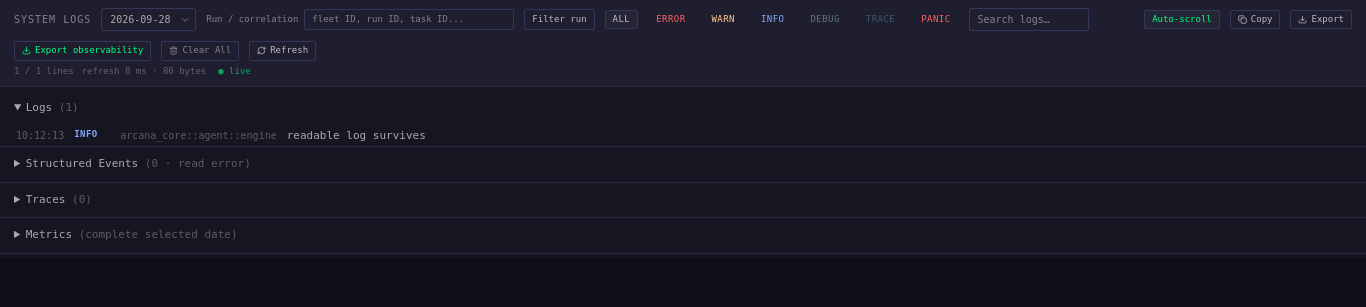
Test: Logs tab › keeps readable logs visible when the structured telemetry reader fails
Expected: the text "readable log survives" is shown, [287, 128, 426, 142]
Click the heading "Structured Events (0 · read error)" at [138, 164], box [26, 157, 251, 170]
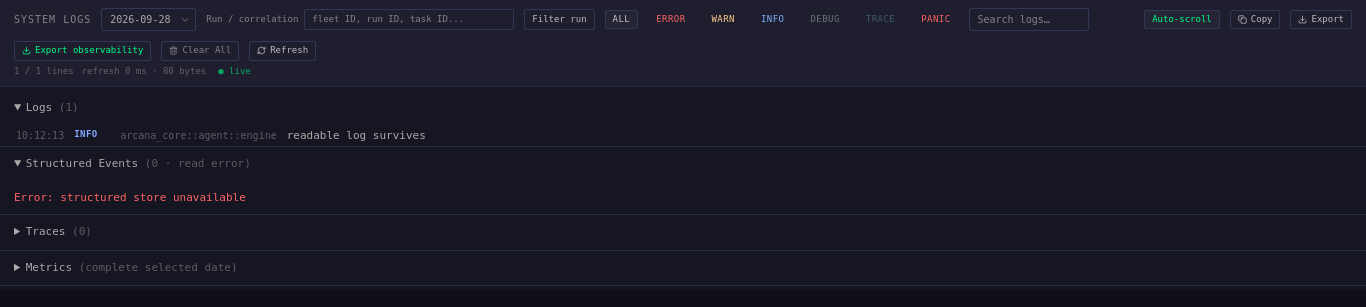
Expected: the message shows "structured store unavailable", [14, 190, 246, 204]
